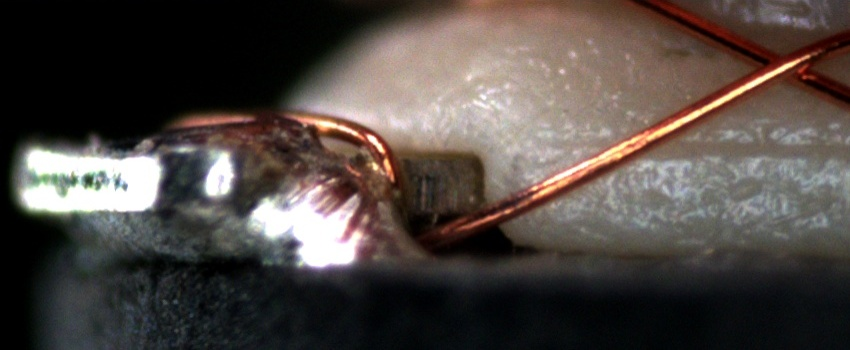CL: (732, 37, 829, 91)
DL: (536, 120, 850, 180)
TE: (161, 109, 407, 198)
